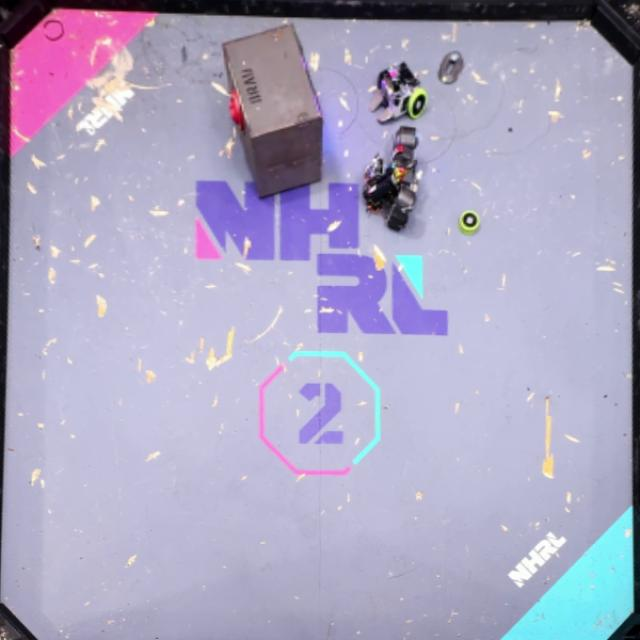housebot: (220, 22, 324, 199)
robot: (363, 125, 418, 229), (369, 62, 428, 125)
